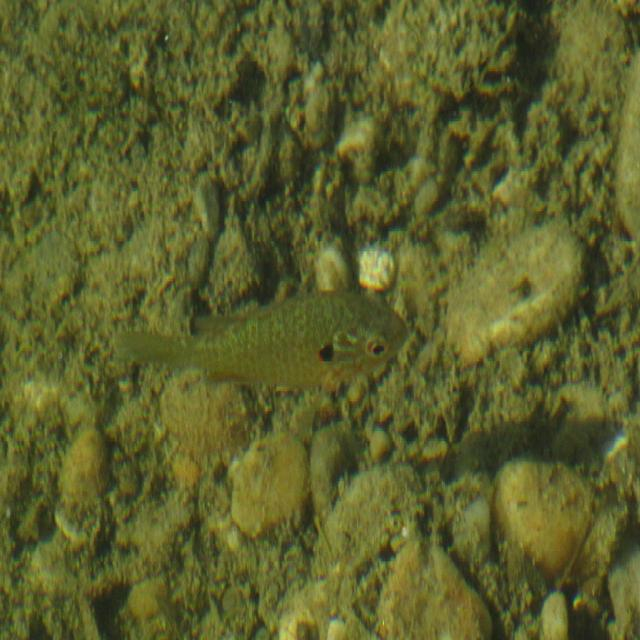Gunes Levregi: (110, 286, 411, 400)
